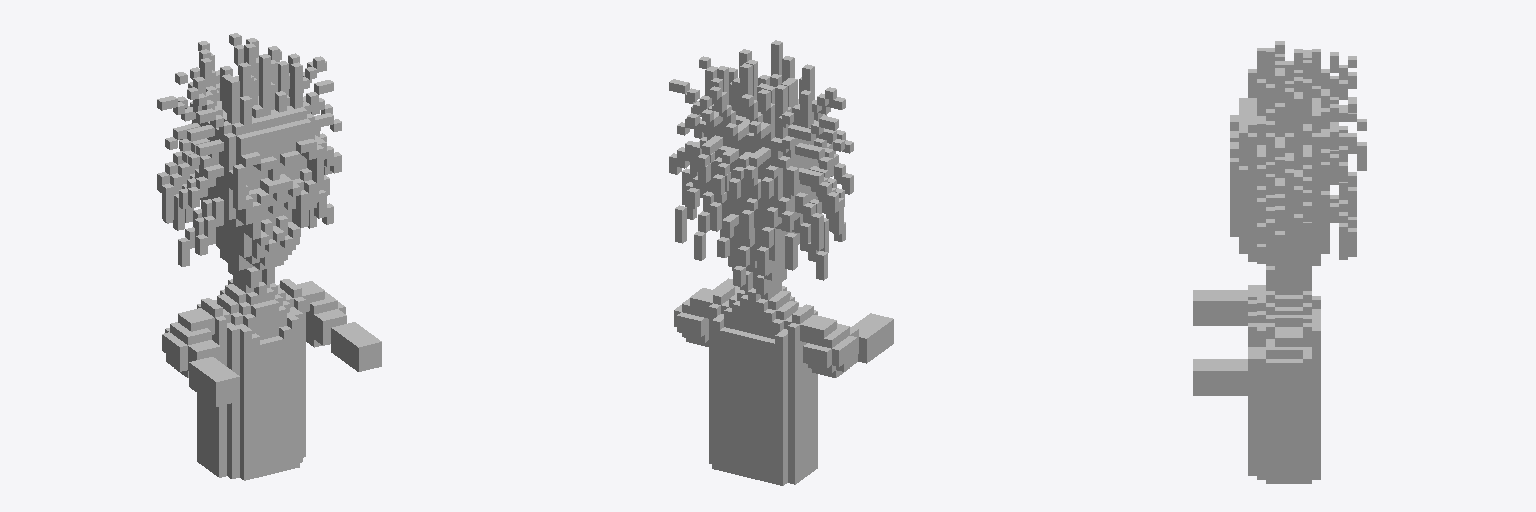
The model's file is Zombie.obj.
3 renders of one model, left to right at view 1: azimuth 30°, elevation 25°; view 2: azimuth 150°, elevation 25°; view 3: azimuth 270°, elevation 25°, orthographic.
Visible parts, largest first — view 1: Zombie; view 2: Zombie; view 3: Zombie.
Boxes of the visible parts, x1=… form: Zombie: x1=157, y1=33, x2=381, y2=480; Zombie: x1=669, y1=40, x2=893, y2=485; Zombie: x1=1193, y1=41, x2=1366, y2=483.
Bounding box in the file's own units: 21 × 50 × 19.